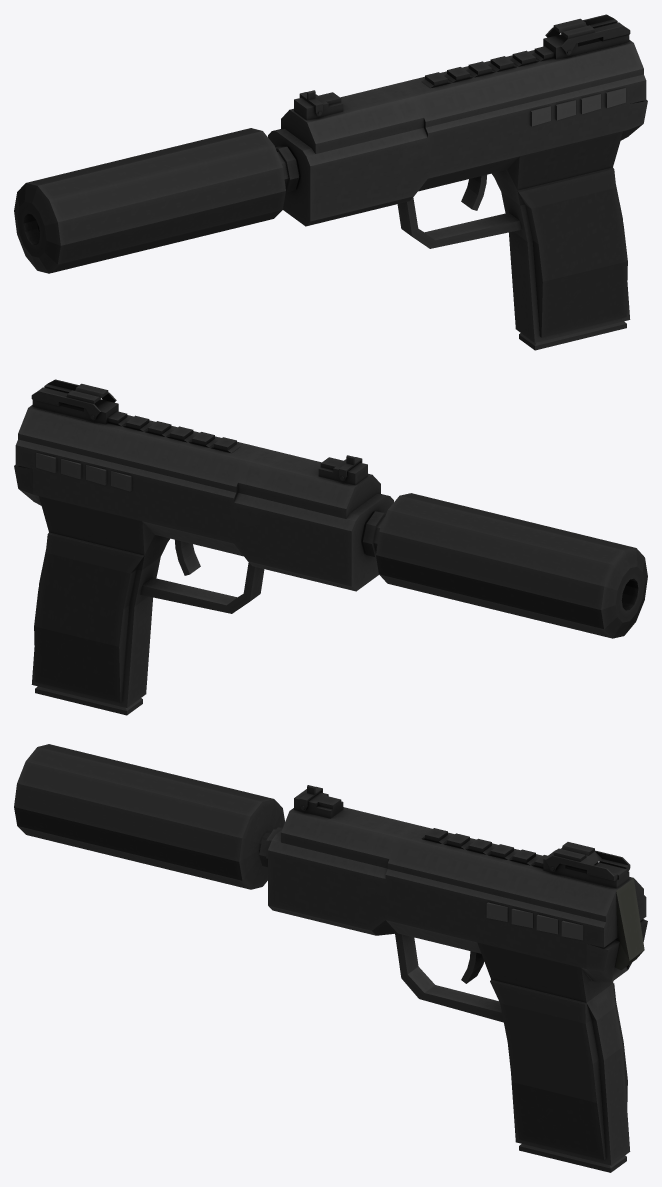
Rendered from Pistol_1.fbx.
3 views of the same model, one above another, from view 1: azimuth 30°, elevation 25°; view 2: azimuth 150°, elevation 25°; view 3: azimuth 330°, elevation 25° (orthographic).
Visible parts, largest first — view 1: pistol_1; view 2: pistol_1; view 3: pistol_1.
Boxes of the visible parts, <box> form: pistol_1: <box>14,14,647,350</box>; pistol_1: <box>14,379,647,715</box>; pistol_1: <box>14,744,647,1172</box>.
Size of the model in its own units: 1650 by 797 by 221.
